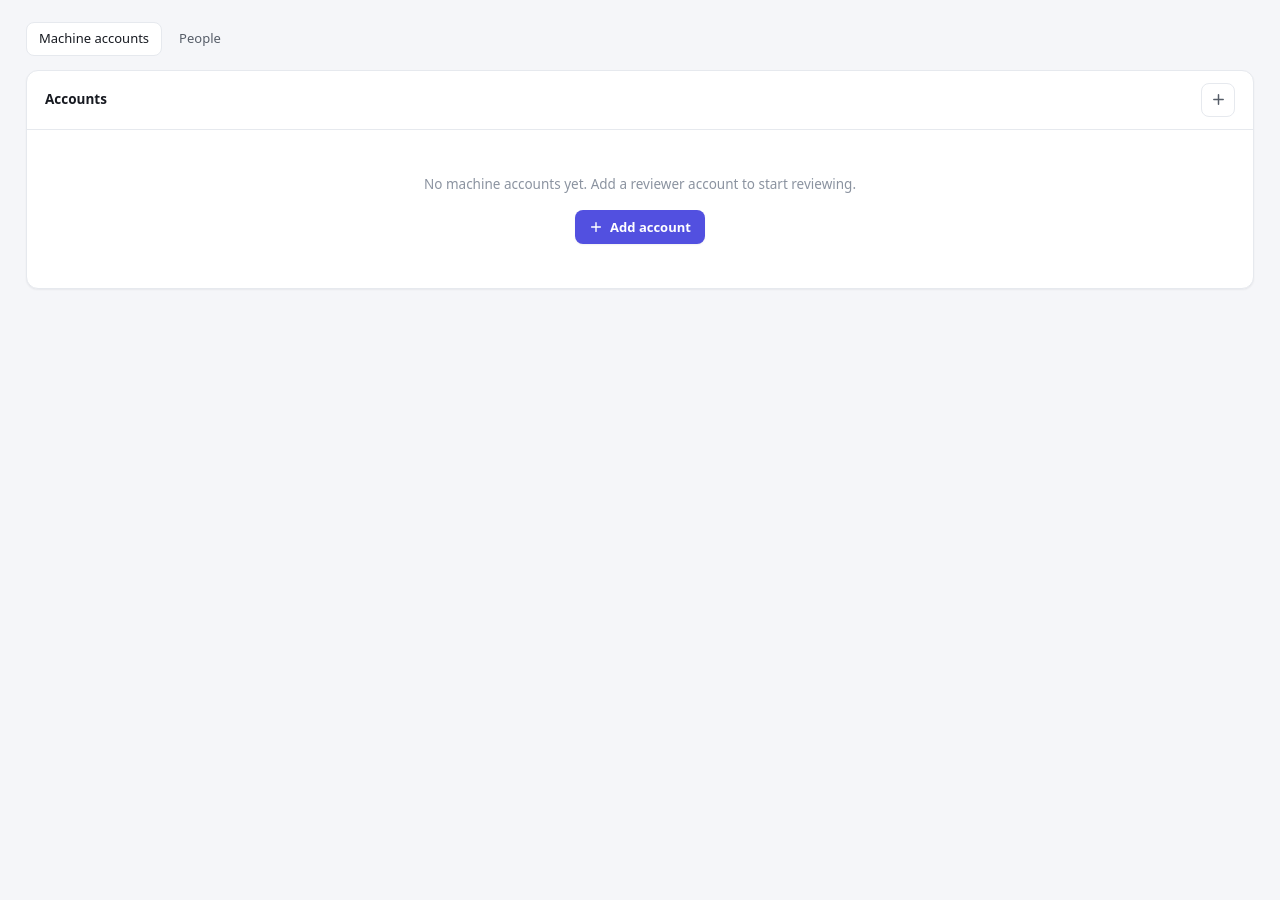
SettingsProviders — provider form › requires a username when the auth kind is basic
The image size is (1280, 900).
Click the button named "add account" at (1218, 100), box [1201,82,1235,116]
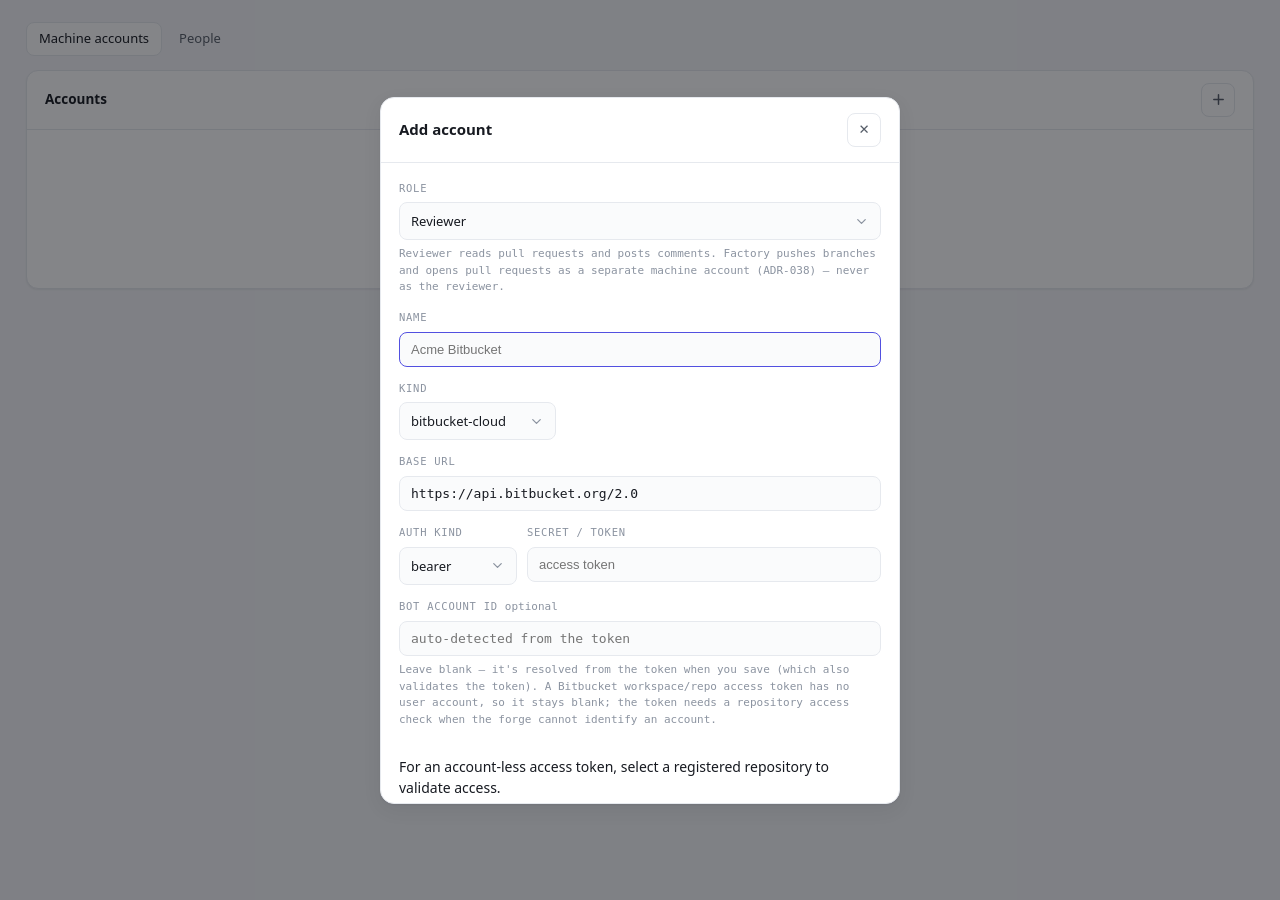
Type "Acme" into the field labelled "Name" at (640, 349), box [399,332,881,366]
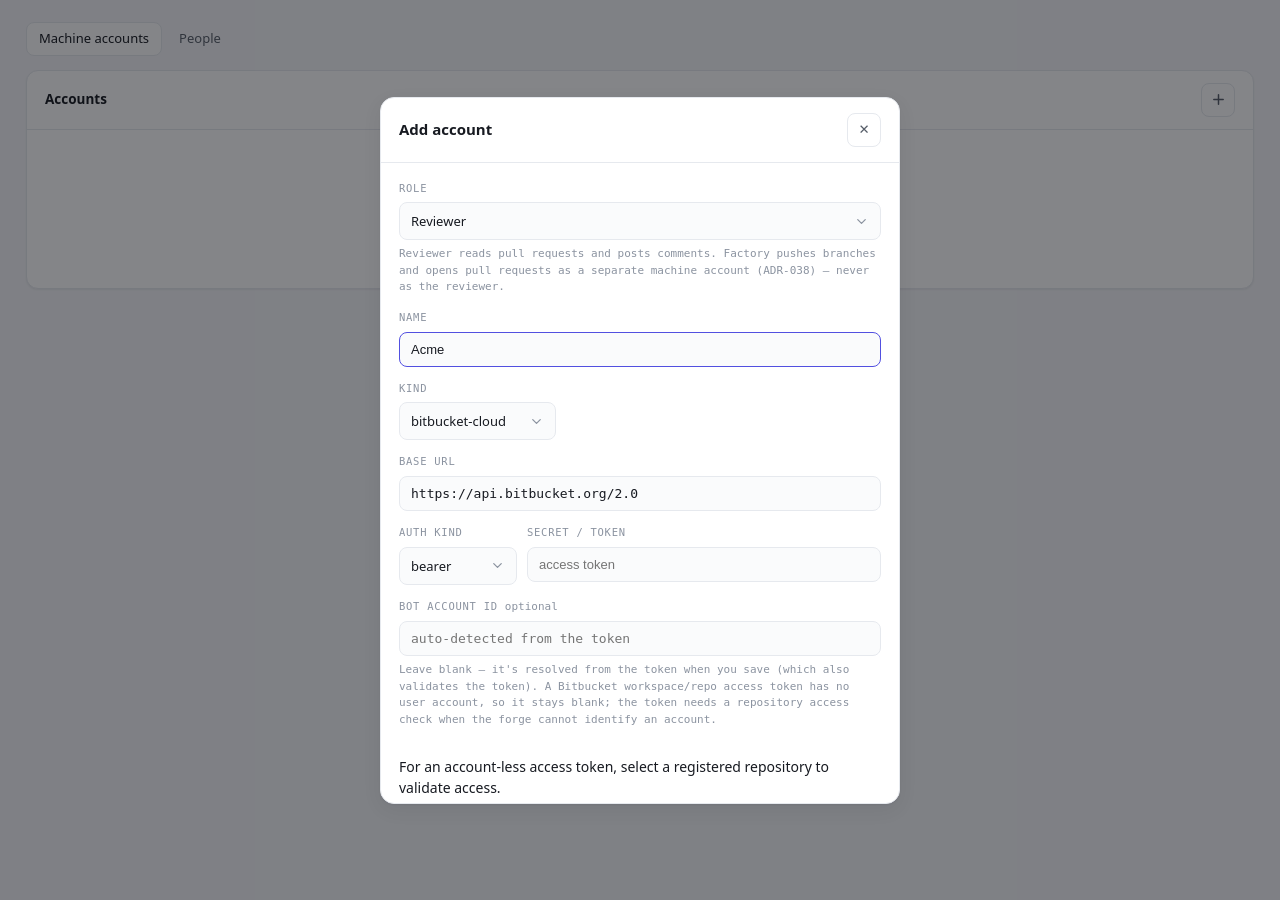
Click the dropdown named "auth kind" at (458, 566), box [399,547,517,585]
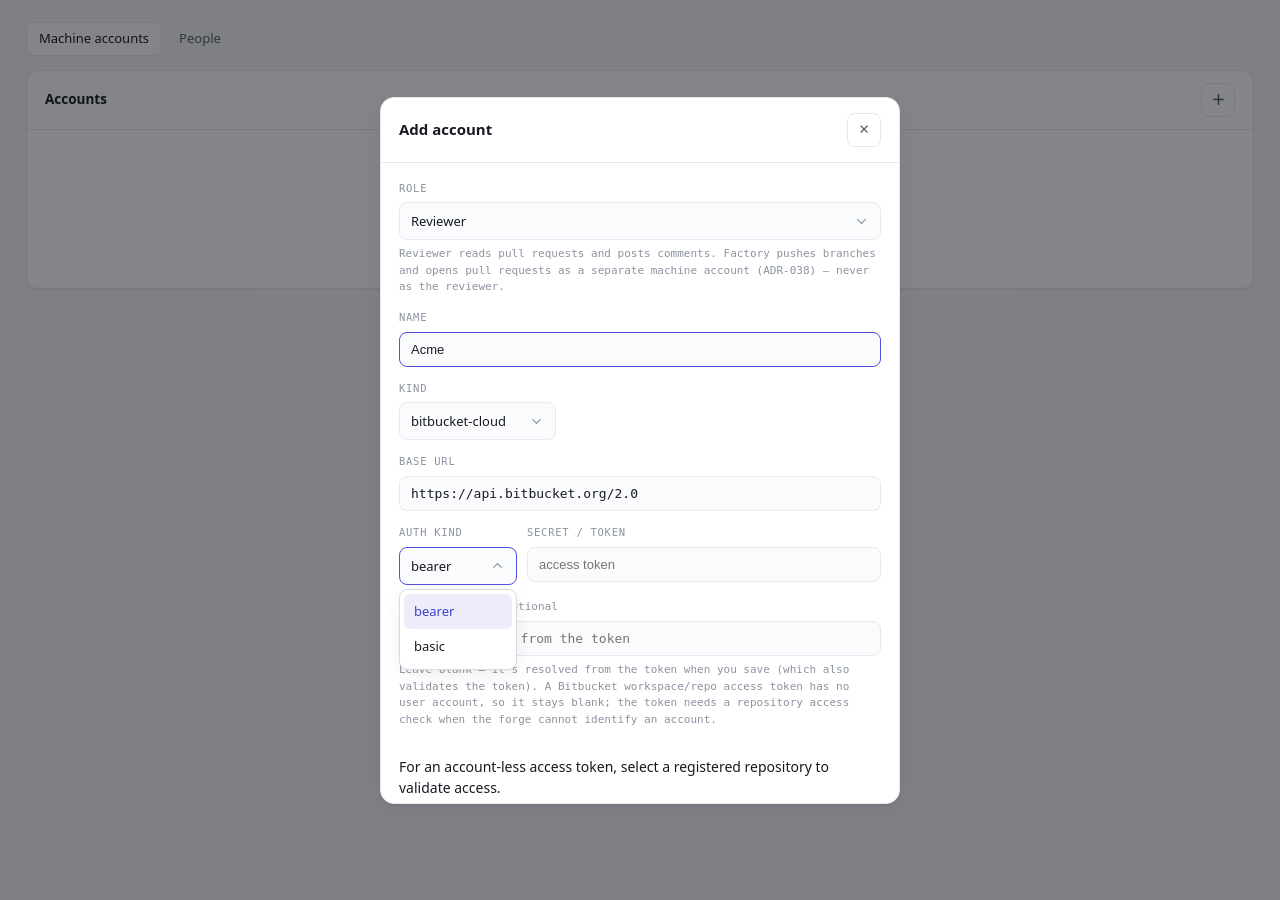
Click the option "basic" at (430, 646), box [414,637,445,655]
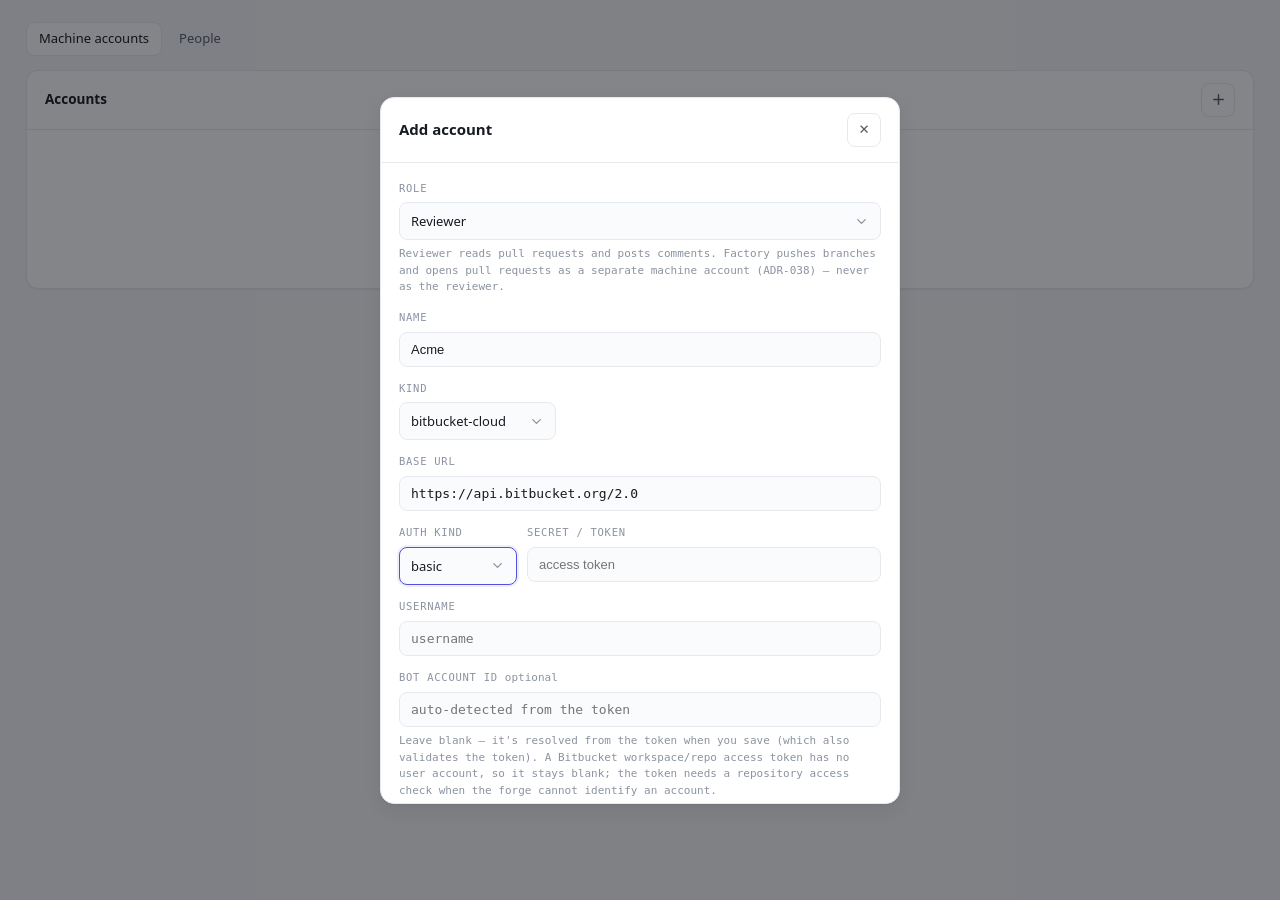
Type "placeholder-token" into the password field labelled "Secret / token" at (704, 564), box [527,547,881,582]
(page scrolled)
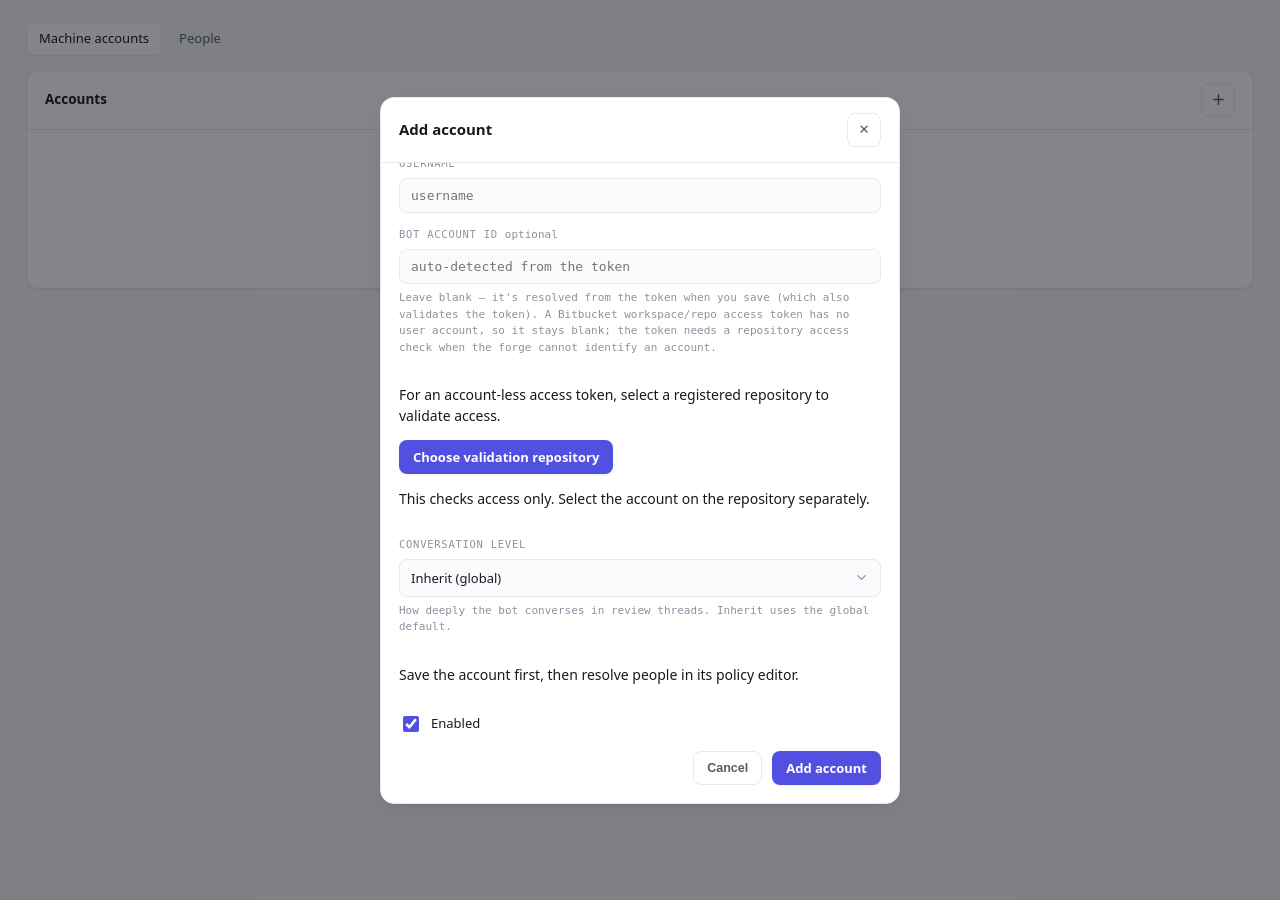
Click the button "Add account" at (827, 768), box [772,751,881,785]
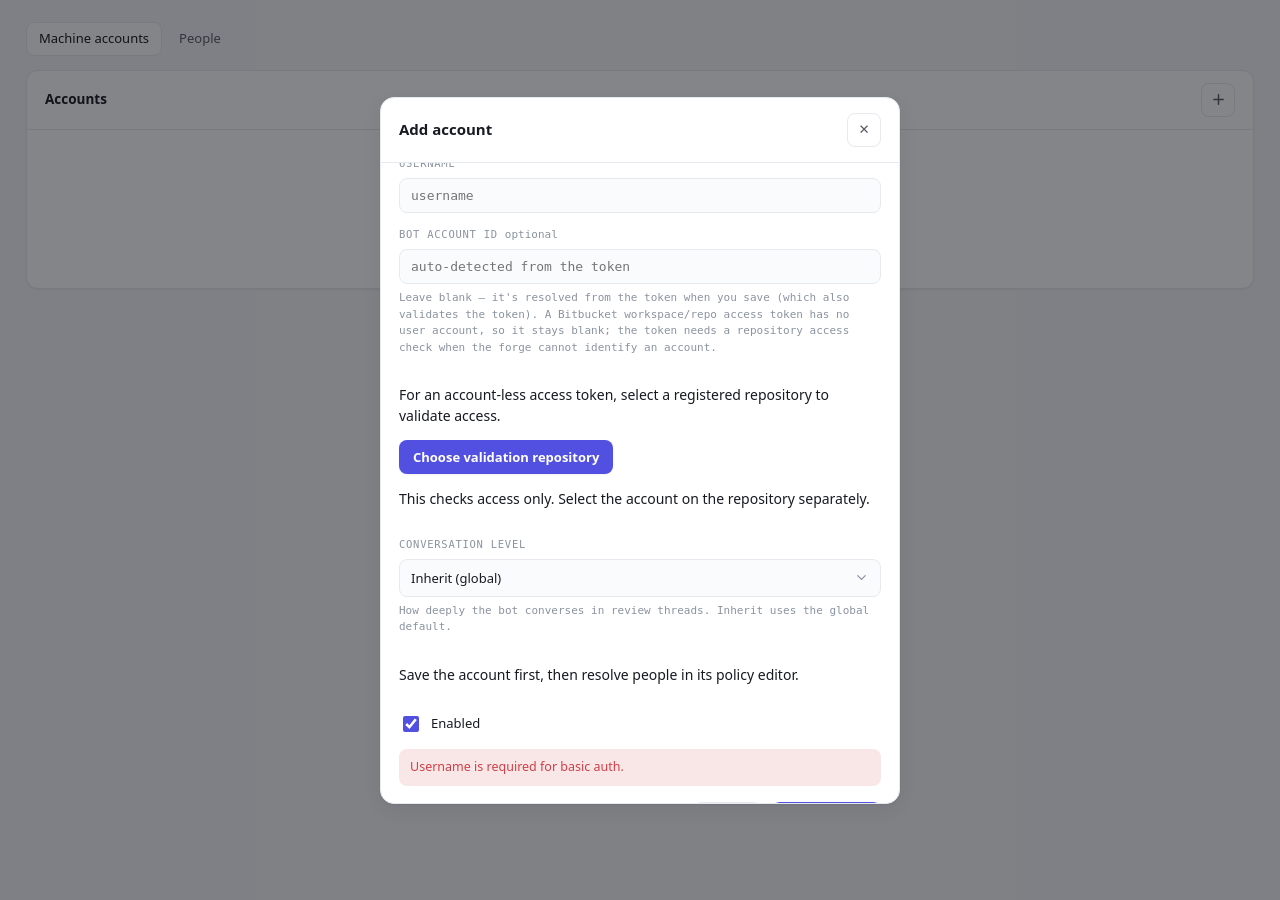
Expected: the text "Username is required for basic auth." is shown, [399,749,881,786]
